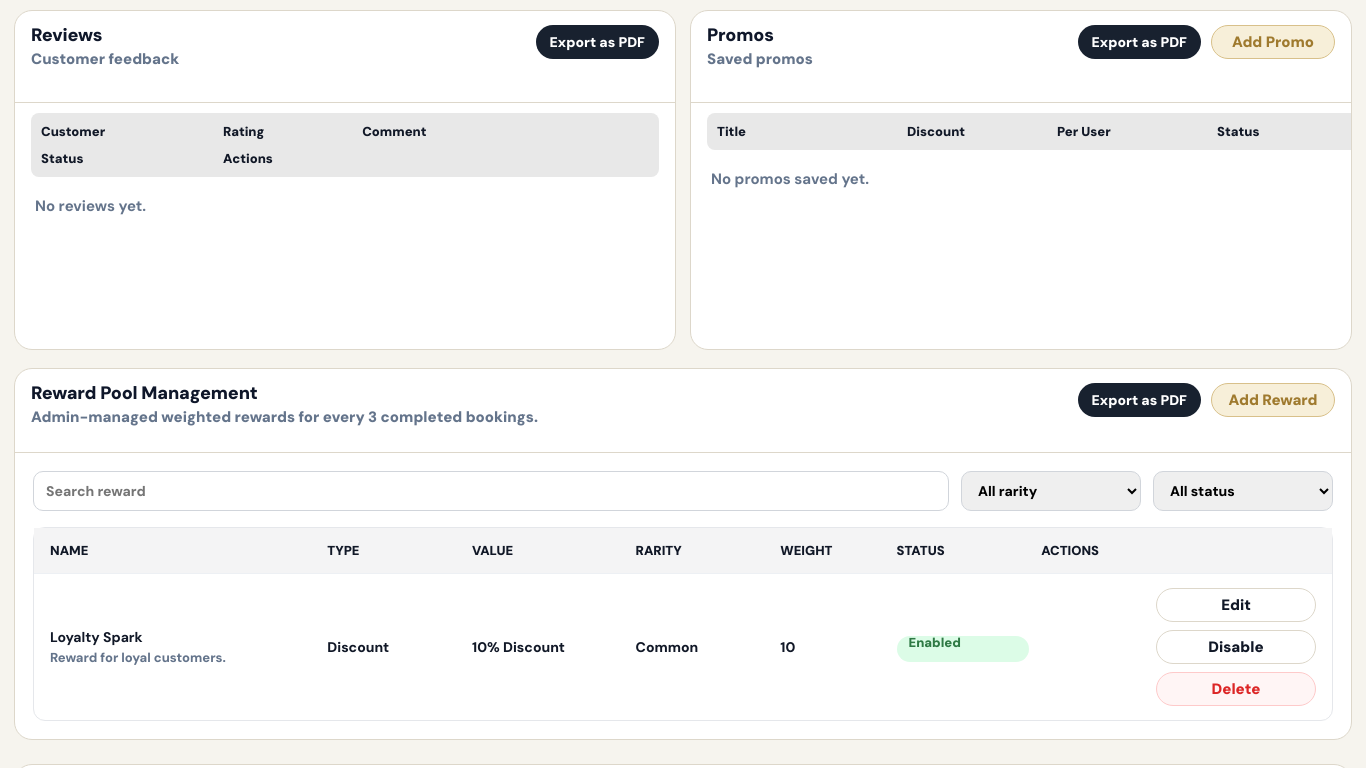
Edit Reward modal validation › updates one existing reward with valid edited values and shows the authoritative row once
The width and height of the screenshot is (1366, 768).
Click the button "Edit". click: (1236, 605)
box: [1156,588,1316,622]
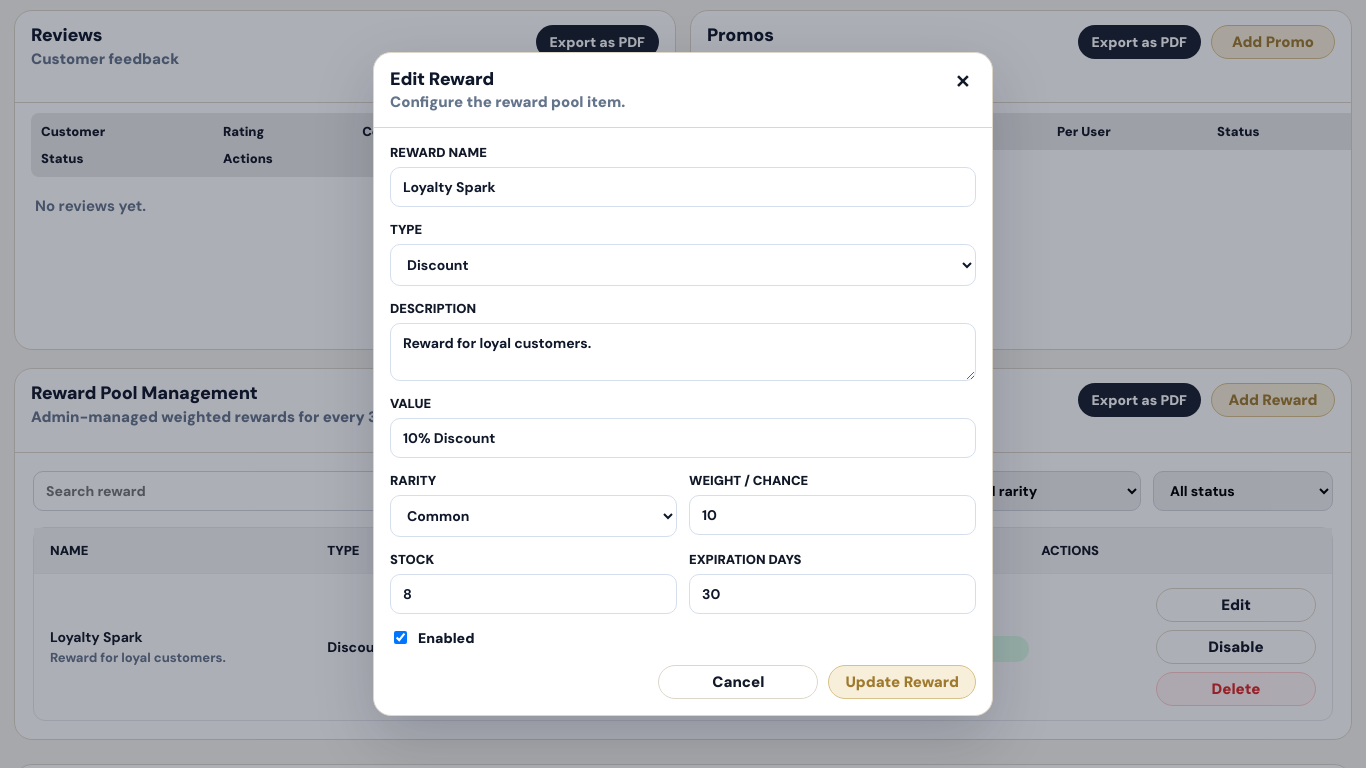
expect the field with id "reward-name" holds "Loyalty Spark": met
expect the dropdown with id "reward-type" shows "Discount": met, box [390,244,976,286]
expect the field with id "reward-value" holds "10% Discount": met, box [390,418,976,458]
Replace the text in the field with id "reward-name" with "Loyalty Glow". click: (683, 187)
box: [390,167,976,207]
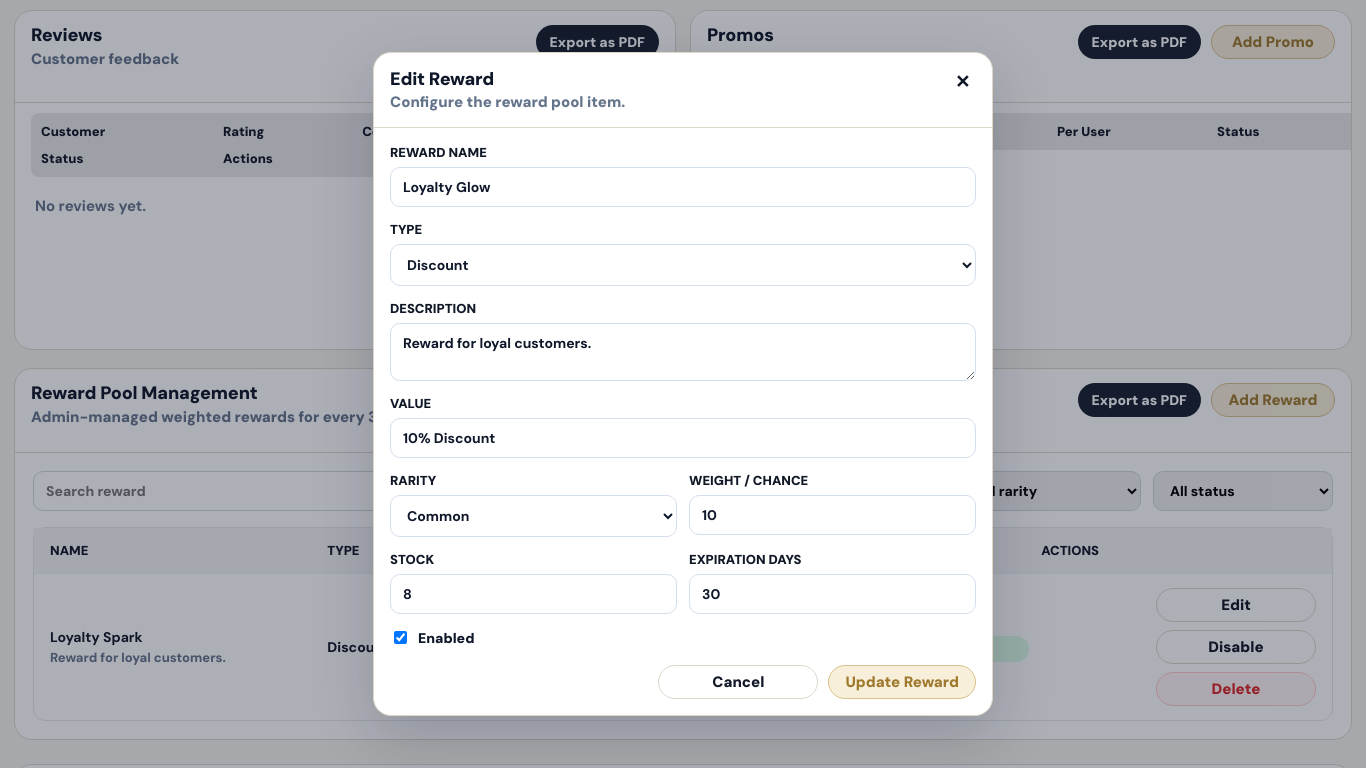
Replace the text in the field with id "reward-value" with "15". click: (683, 438)
box: [390,418,976,458]
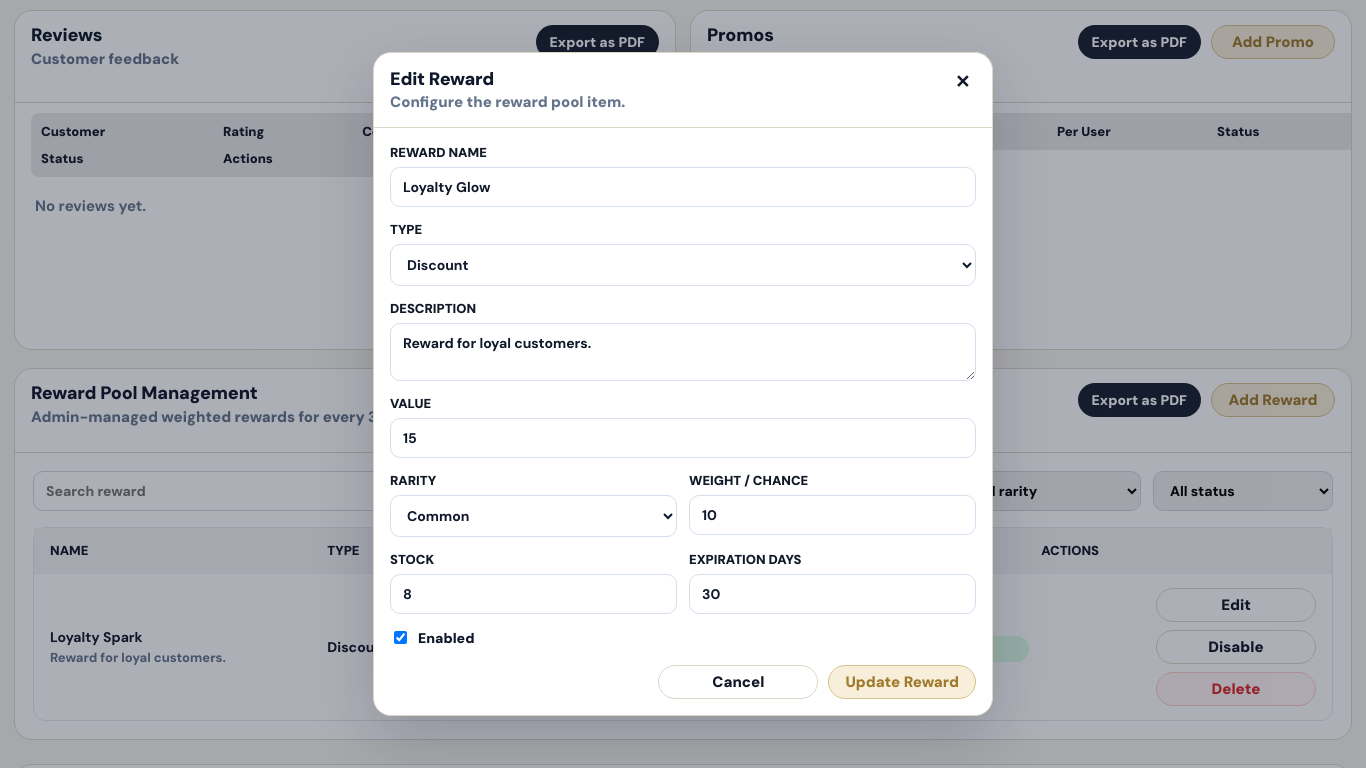
Replace the text in the field with id "reward-stock" with "11". click: (534, 594)
box: [390,574,677,614]
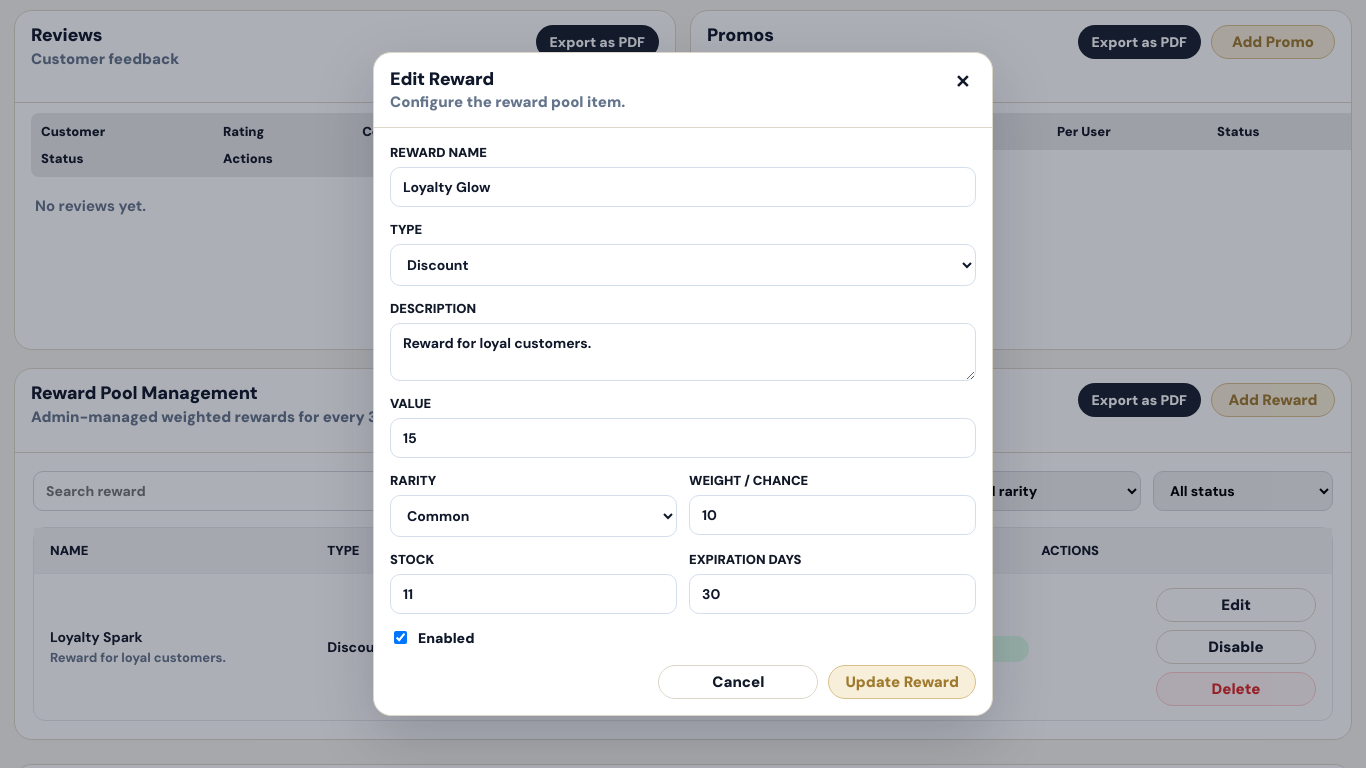
Replace the text in the field with id "reward-expiration-days" with "45". click: (832, 594)
box: [689,574,976,614]
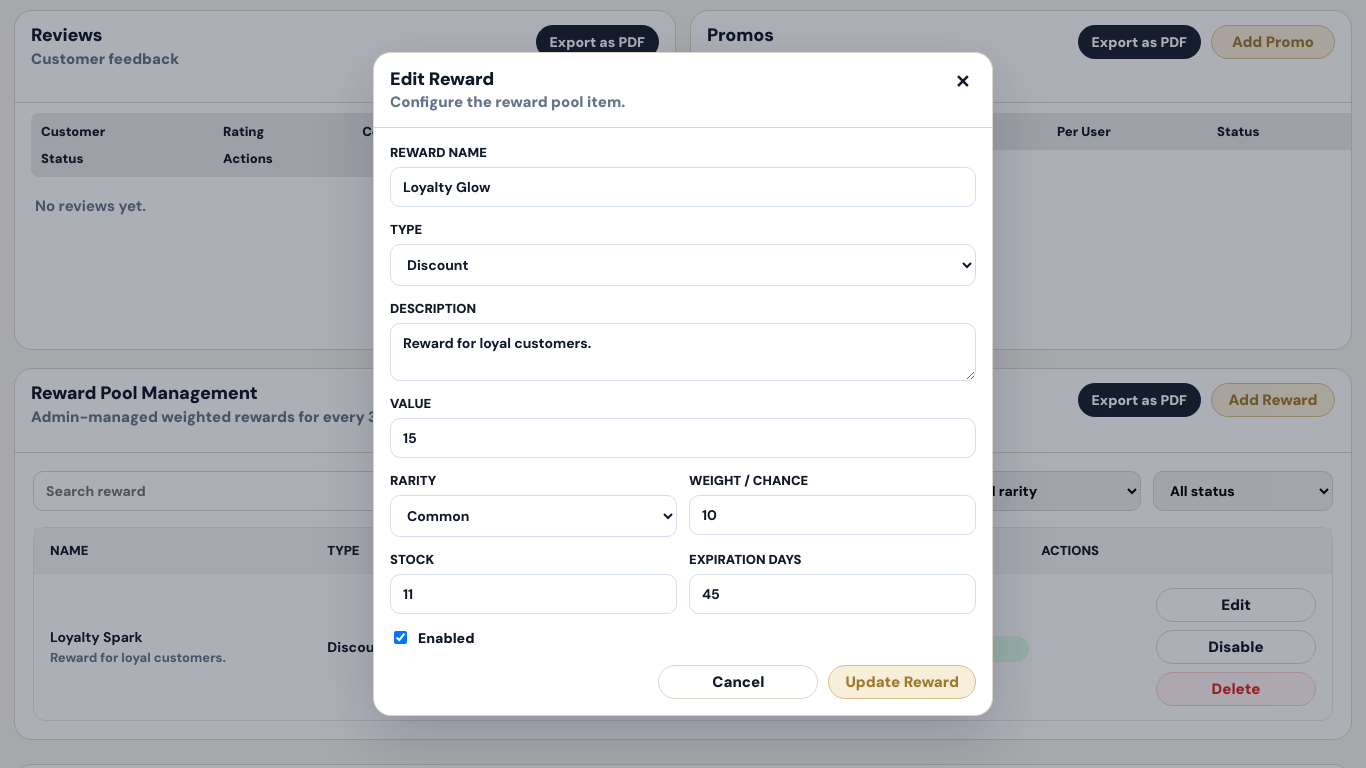
expect the button "Update Reward" is enabled: met
Click the button "Update Reward". click: (902, 682)
box: [828,665,976,699]
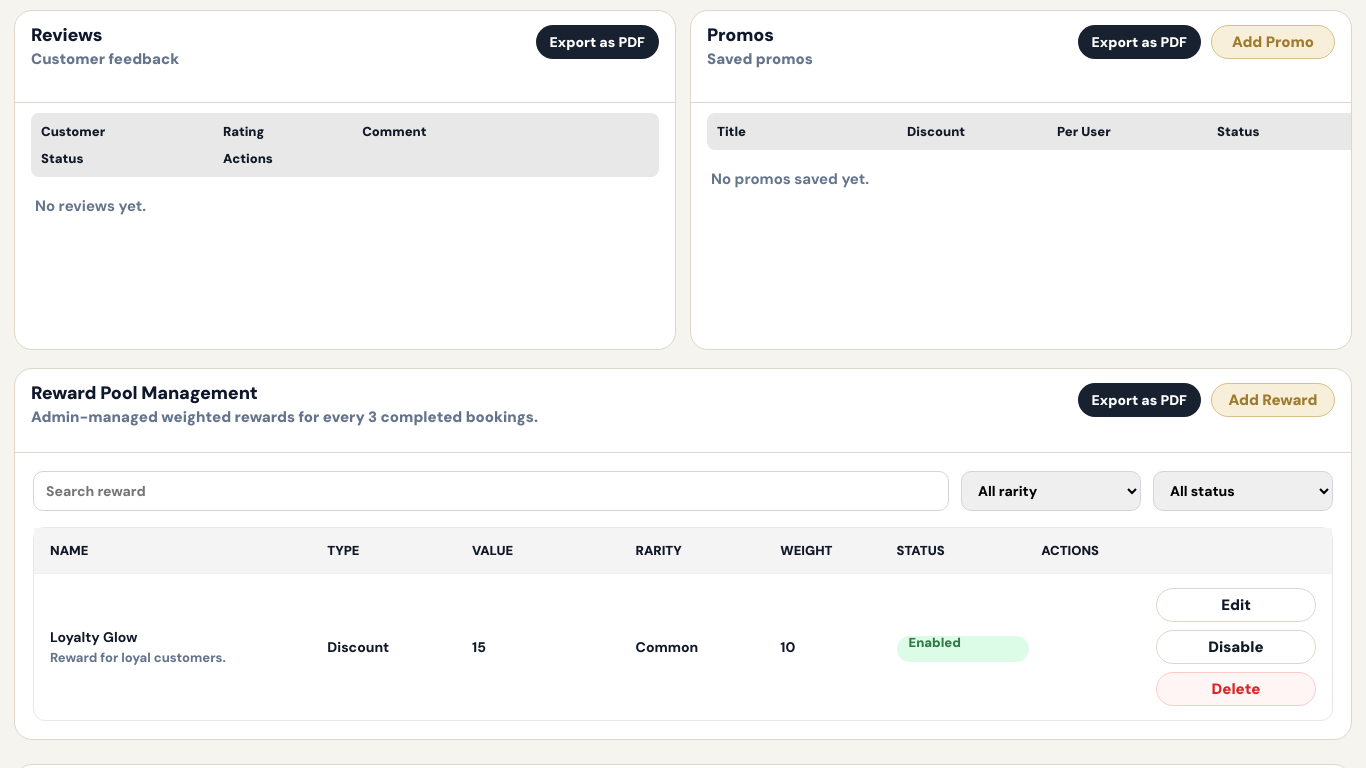
expect the text "Loyalty Glow" is shown once: met, box [50,628,137,646]
expect the text "Edit Reward" is gone: met
expect the text "Loyalty Spark" is gone: met
